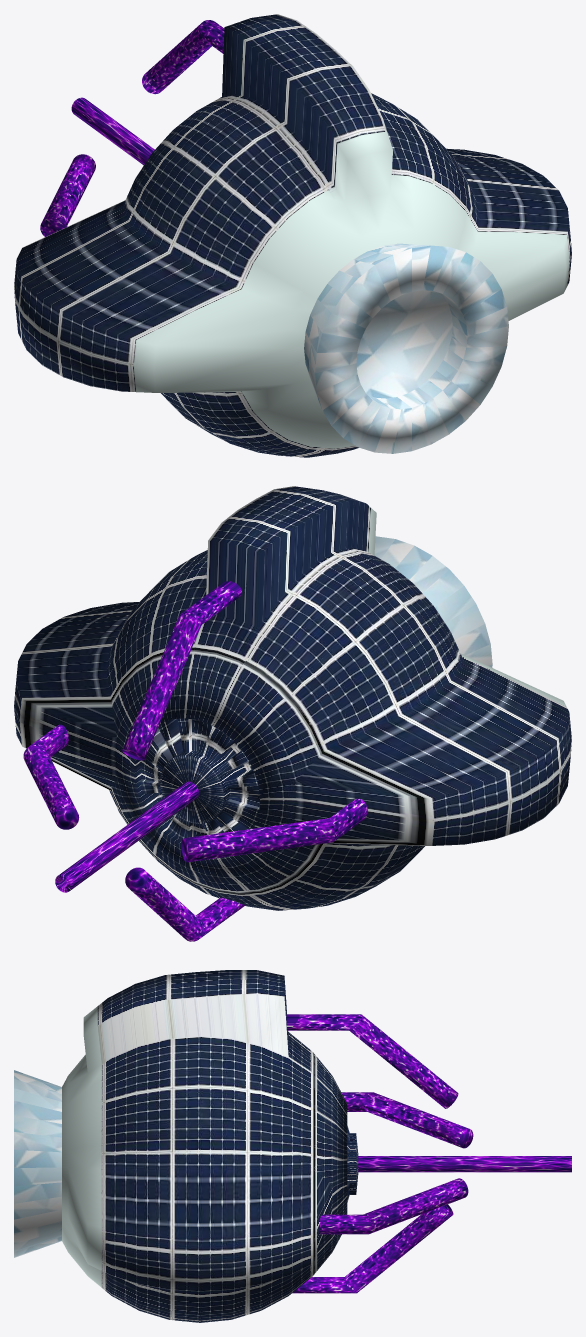
The model's file is charge_spacebot.gltf.
3 renders of one model, top to bottom at view 1: azimuth 30°, elevation 25°; view 2: azimuth 150°, elevation 25°; view 3: azimuth 270°, elevation 25°, orthographic. The views are drawn at different scales.
Visible parts, largest first — view 1: Sphere, Cone, Cylinder.000, Cylinder.004, Cylinder.002; view 2: Sphere, Cylinder.000, Cylinder.004, Cone, Cylinder.002; view 3: Sphere, Cone, Cylinder.000, Cylinder.004, Cylinder.002.
Part boxes in pixels (bbox=[...]): Sphere: bbox=[14, 14, 571, 457]; Cone: bbox=[304, 243, 508, 453]; Cylinder.000: bbox=[142, 20, 224, 94]; Cylinder.004: bbox=[40, 154, 95, 236]; Cylinder.002: bbox=[71, 97, 154, 165]; Sphere: bbox=[14, 486, 571, 910]; Cylinder.000: bbox=[122, 581, 245, 941]; Cylinder.004: bbox=[23, 724, 367, 862]; Cone: bbox=[374, 536, 492, 667]; Cylinder.002: bbox=[55, 781, 198, 892]; Sphere: bbox=[62, 970, 358, 1322]; Cone: bbox=[14, 1070, 61, 1257]; Cylinder.000: bbox=[286, 1014, 458, 1293]; Cylinder.004: bbox=[320, 1092, 473, 1234]; Cylinder.002: bbox=[358, 1156, 571, 1172].
Bounding box in the file's own units: 8.46 × 6.22 × 9.57.
Materials: 4 (4 with a texture image).
